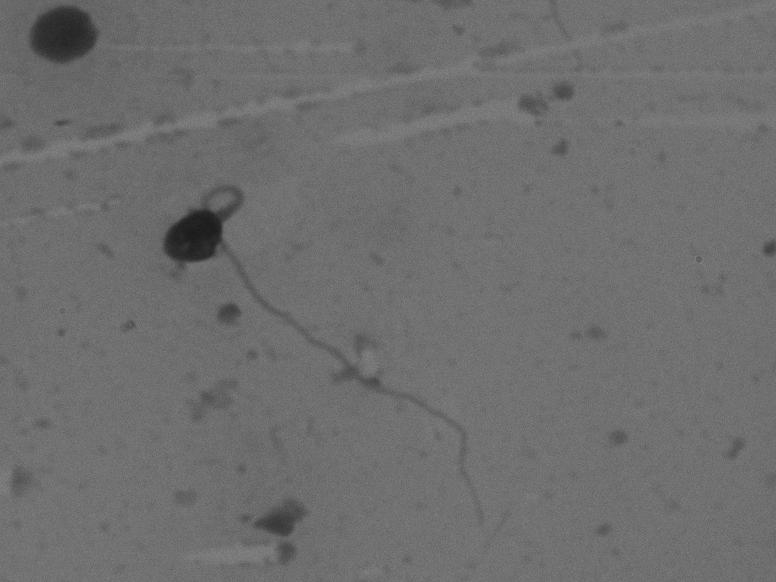Abnormal: (103, 161, 541, 531)
